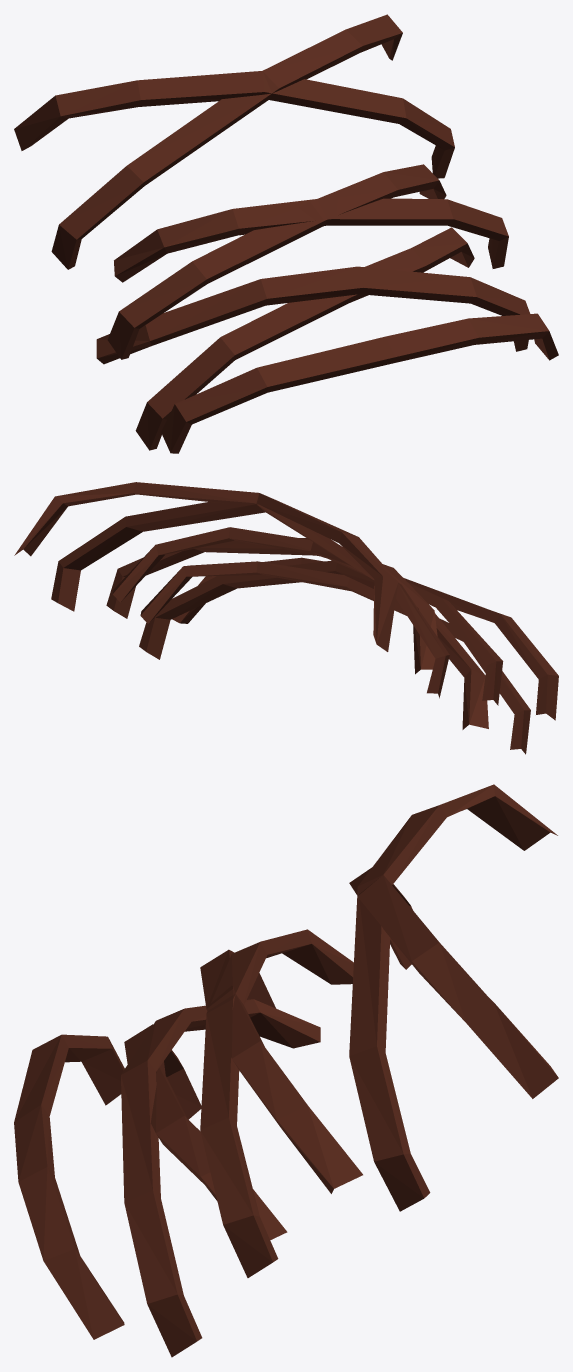
Rendered from DressLaces.glb.
3 views of the same model, one above another, from view 1: azimuth 30°, elevation 25°; view 2: azimuth 150°, elevation 25°; view 3: azimuth 270°, elevation 25° (orthographic). The views are drawn at different scales.
Visible parts, largest first — view 1: Node; view 2: Node; view 3: Node.
Part boxes in pixels (x1,y1,x2,y2): Node: [14, 14, 558, 453]; Node: [14, 482, 558, 754]; Node: [14, 784, 558, 1357].
Size of the model in its own units: 1.35 by 0.9066 by 1.19.
